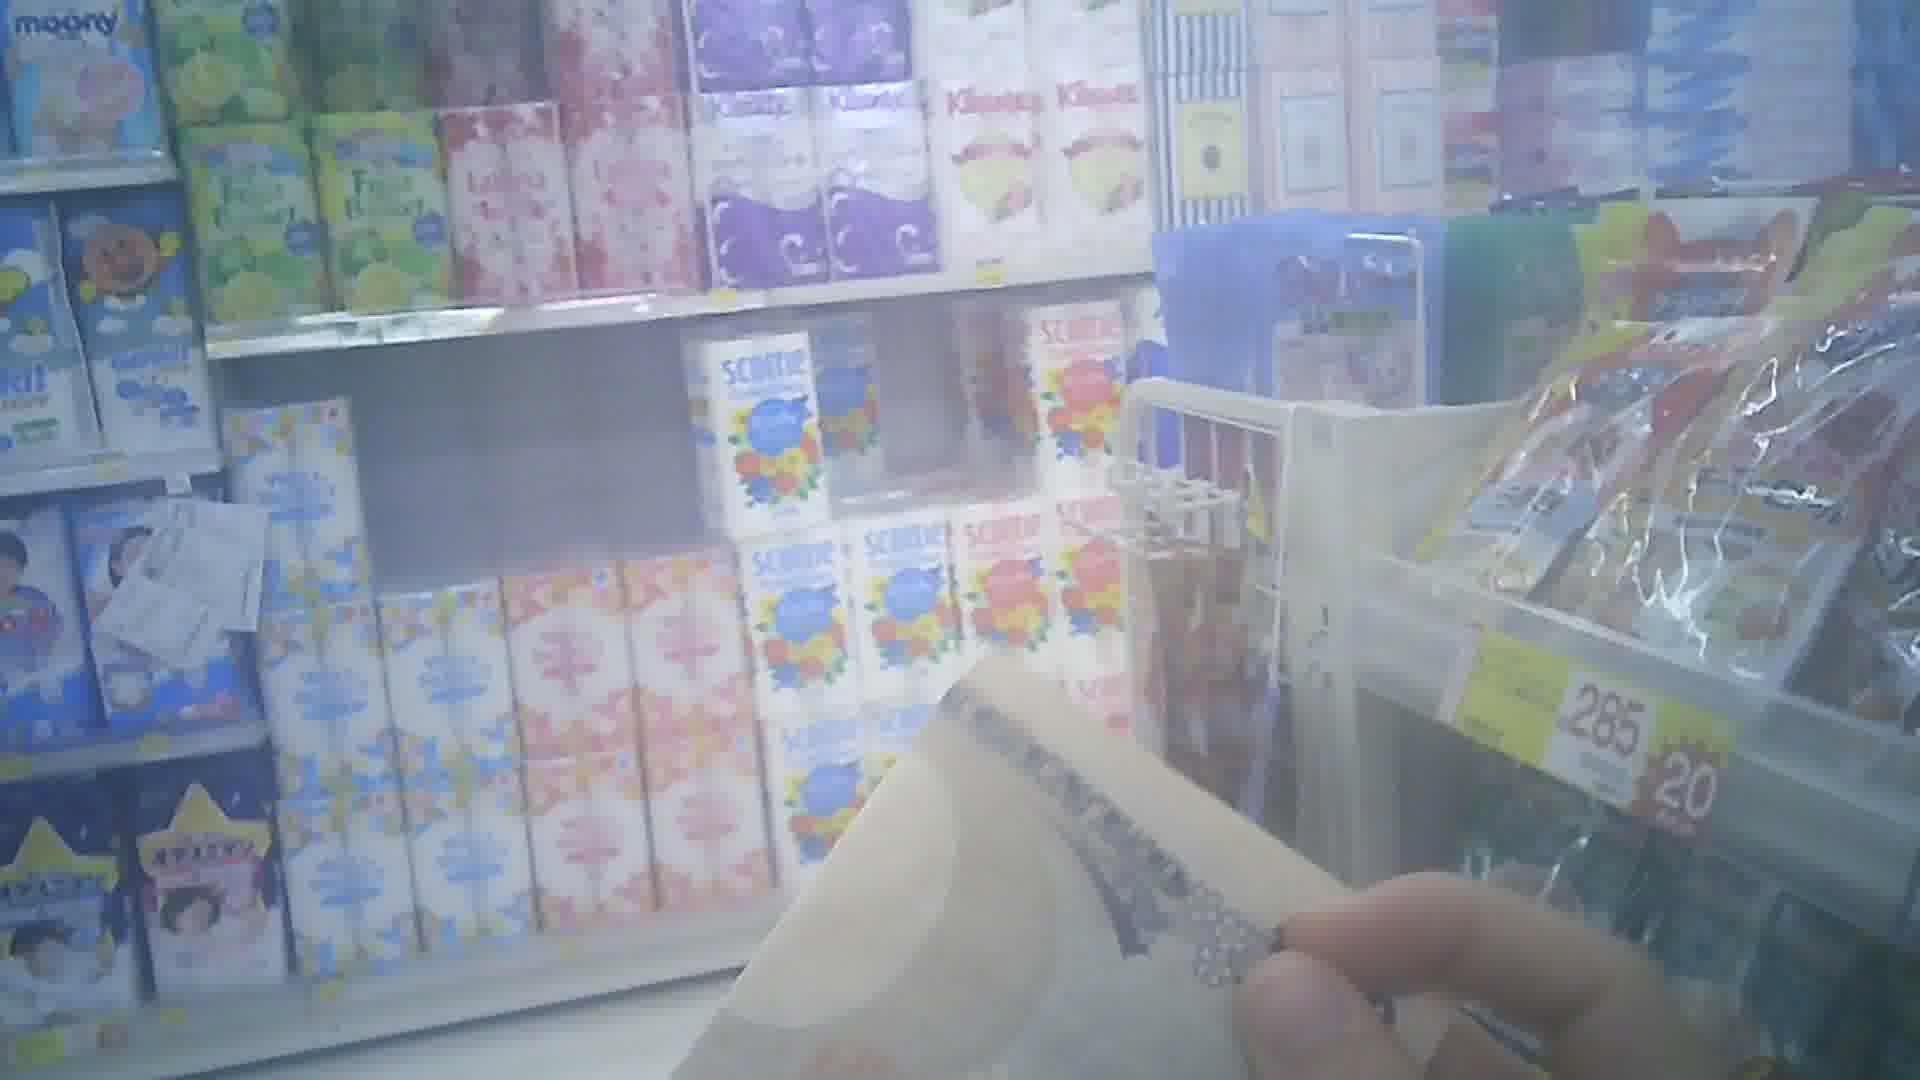1,000 Yen: (687, 645, 1400, 1055)
